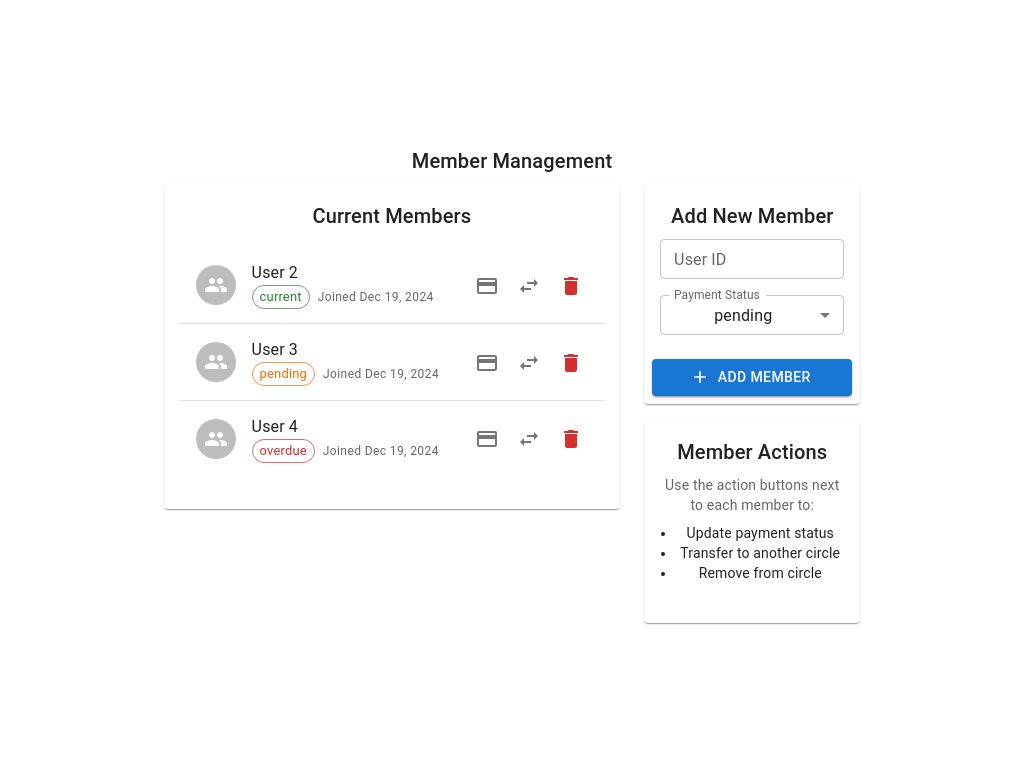
MemberManagementInterface › Remove Member Functionality › should show confirmation dialog when removing member
Click the button named "remove member" in the row of "User 2": (571, 286) [554,269,588,303]
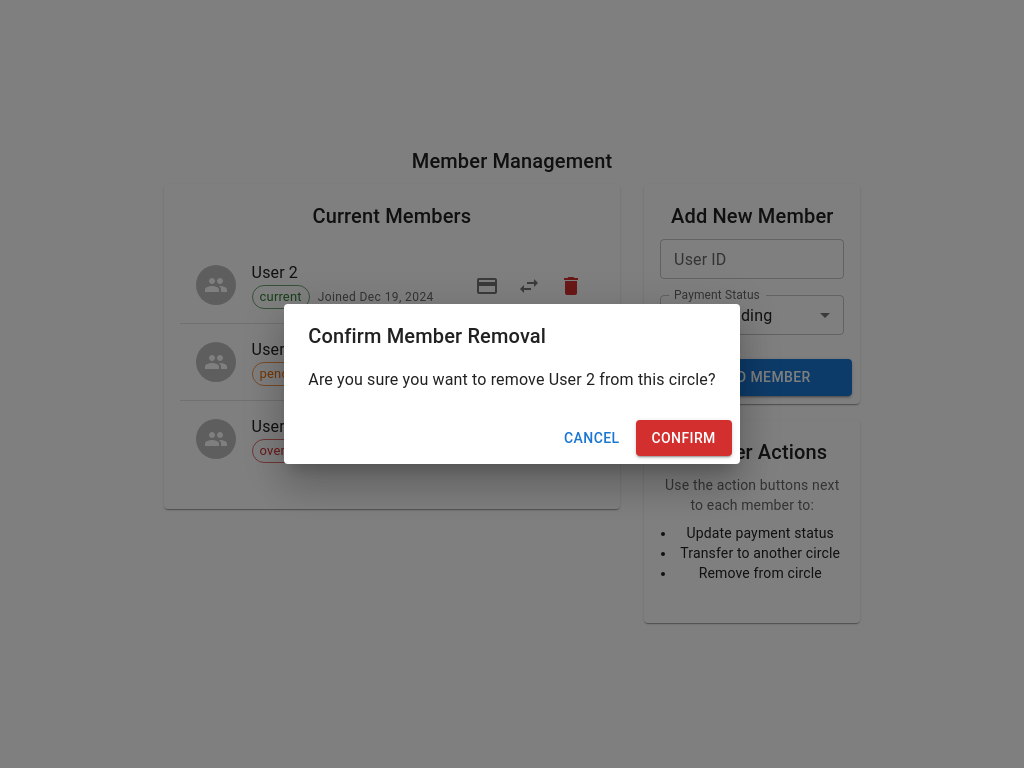
Check: the heading "Confirm Member Removal" is shown, box [308,324,546,348]
